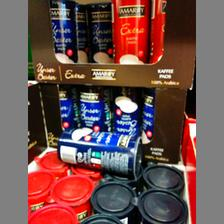Kaffee: (54, 126, 142, 178), (106, 0, 150, 64), (84, 2, 112, 62), (48, 0, 76, 60), (76, 85, 110, 129), (111, 86, 139, 132)
